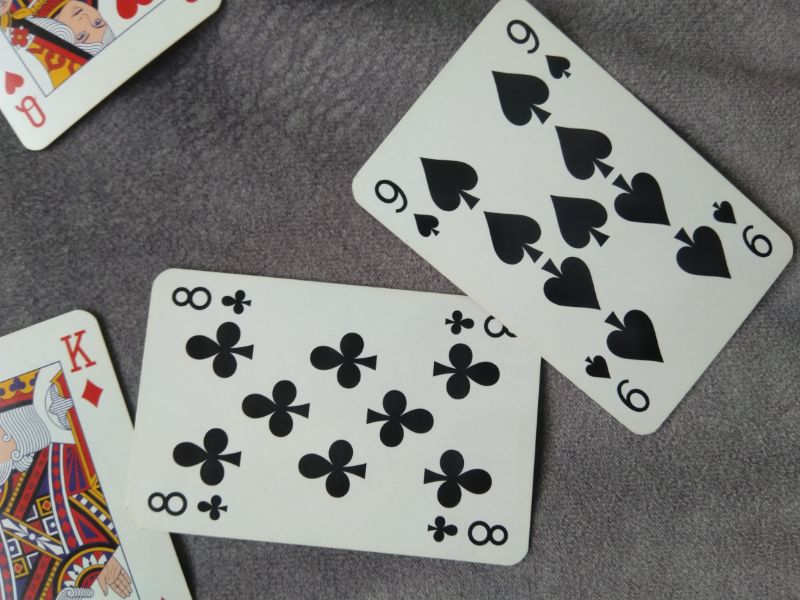8c: (163, 280, 256, 319), (423, 511, 511, 551), (146, 485, 232, 524)
9s: (502, 16, 577, 82), (710, 194, 777, 263), (581, 351, 652, 416), (370, 176, 442, 240)
Kd: (59, 327, 107, 413)
Qh: (2, 68, 47, 130)
